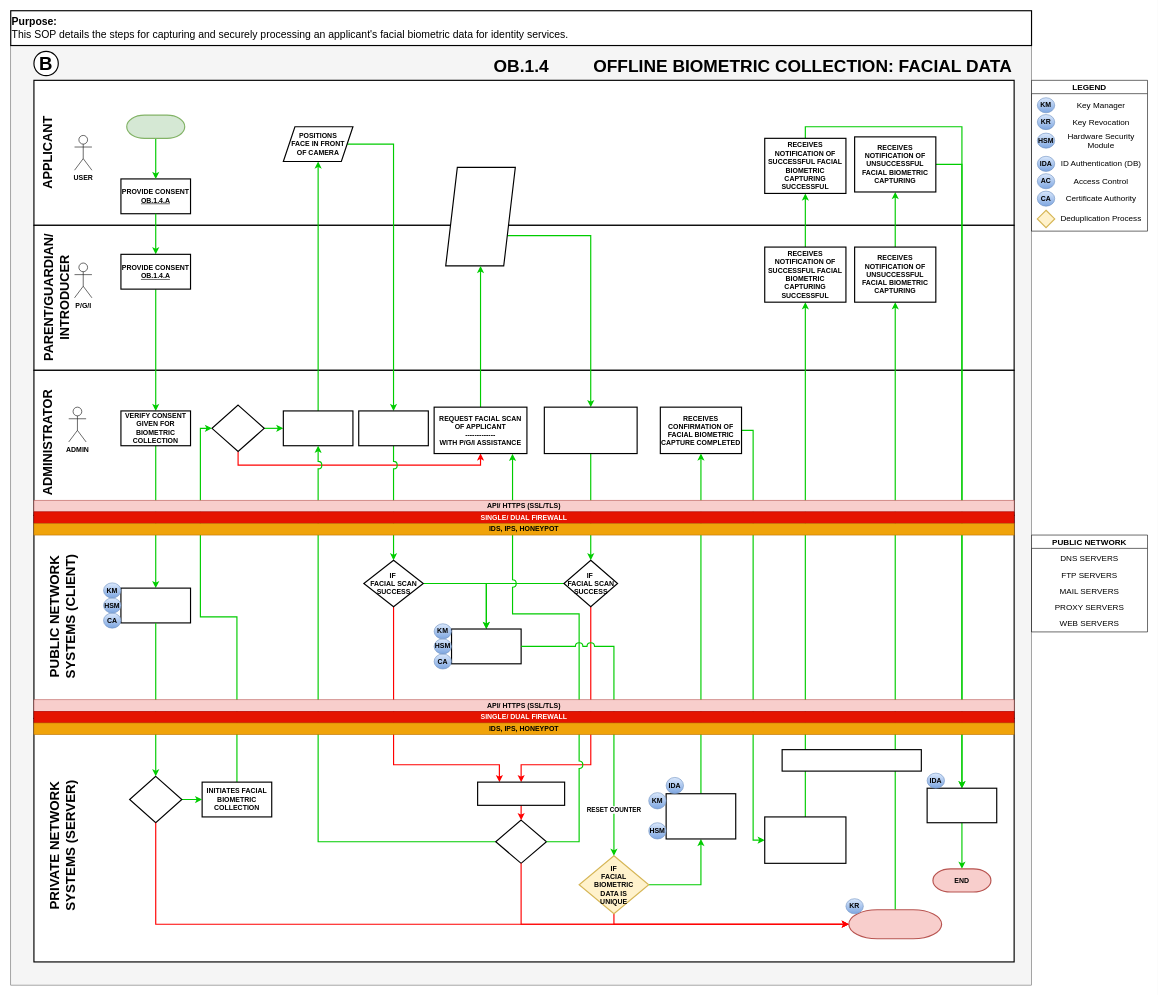
Image size: 1158x995. Some labels were removed from this diagram. Each missing label, with the centre of its shape:
CAPTURE FACIAL IMAGE OF APPLICANT: pixel 393 428
CAPTURE FACIAL IMAGE OF APPLICANT ------------- WITH P/G/I ASSISTANCE: pixel 590 430
EXCEPTION AND ERROR HANDLING (COUNTER): pixel 521 793
IF APPLICANT AGE >5: pixel 237 428
IF CONSENT GIVEN: pixel 155 799
IF RETRY COUNT < = 3: pixel 521 841
LOGS THE PROCESS AND STATUS: pixel 961 805
MASK & ENCRYPT FACIAL SCAN: pixel 486 646
MASK & ENCRYPT RID AND APPLICANT DETAILS: pixel 155 605
NOTIFICATION GENERATOR: pixel 851 760
NOTIFY THE PARTICIPANTS: pixel 805 840
POSITION APPLICANT FACE IN FRONT OF CAMERA ------------- WITH P/G/I ASSISTANCE: pixel 480 216
REQUEST FACIAL SCAN OF APPLICANT: pixel 317 428
START (OFFLINE): pixel 155 126
STORE FACIAL BIOMETRIC DATA IN RID ACCOUNT WITH ENCRYPTION AND HASHING: pixel 700 816
TERMINATE PROCESS: REJECT APPLICATION: pixel 895 924
